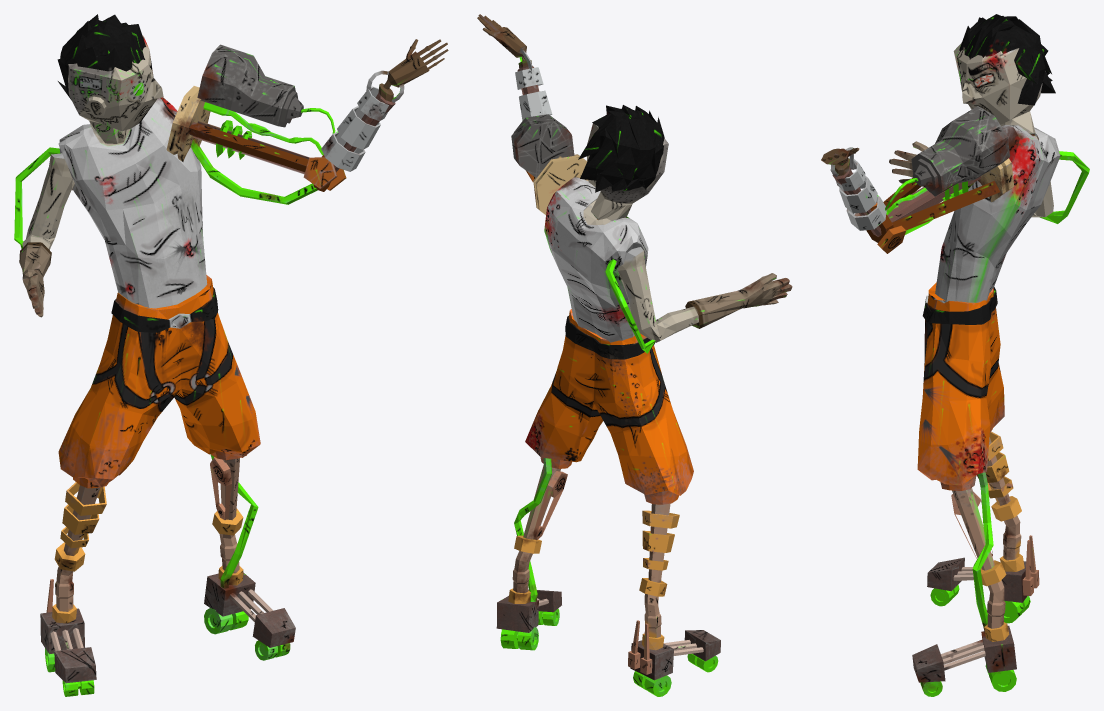
Rendered from CyborgFINALAnimation_000061.obj.
3 views of the same model, side by side, from view 1: azimuth 30°, elevation 25°; view 2: azimuth 150°, elevation 25°; view 3: azimuth 270°, elevation 25° (orthographic). The views are drawn at different scales.
Parts seen in each view (by area): view 1: CyborgMesh_Cube.002; view 2: CyborgMesh_Cube.002; view 3: CyborgMesh_Cube.002.
Boxes of the visible parts, x1,y1,x2,y2 form: CyborgMesh_Cube.002: [14, 14, 448, 696]; CyborgMesh_Cube.002: [477, 14, 792, 696]; CyborgMesh_Cube.002: [821, 14, 1089, 696].
Bounding box in the file's own units: 5.92 × 9.54 × 3.76.
